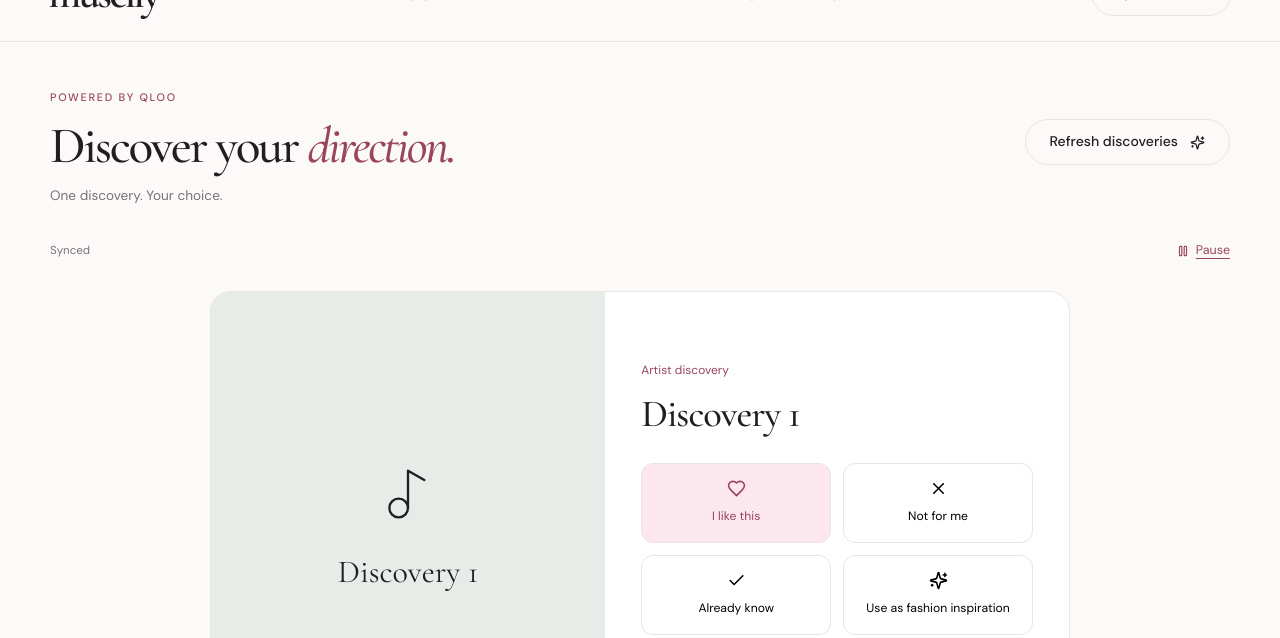
it: waits for acknowledgements before fetching analytics but keeps the deck interactive
Click the button "I like this": coordinates (736, 503) [641, 463, 831, 543]
(page scrolled)
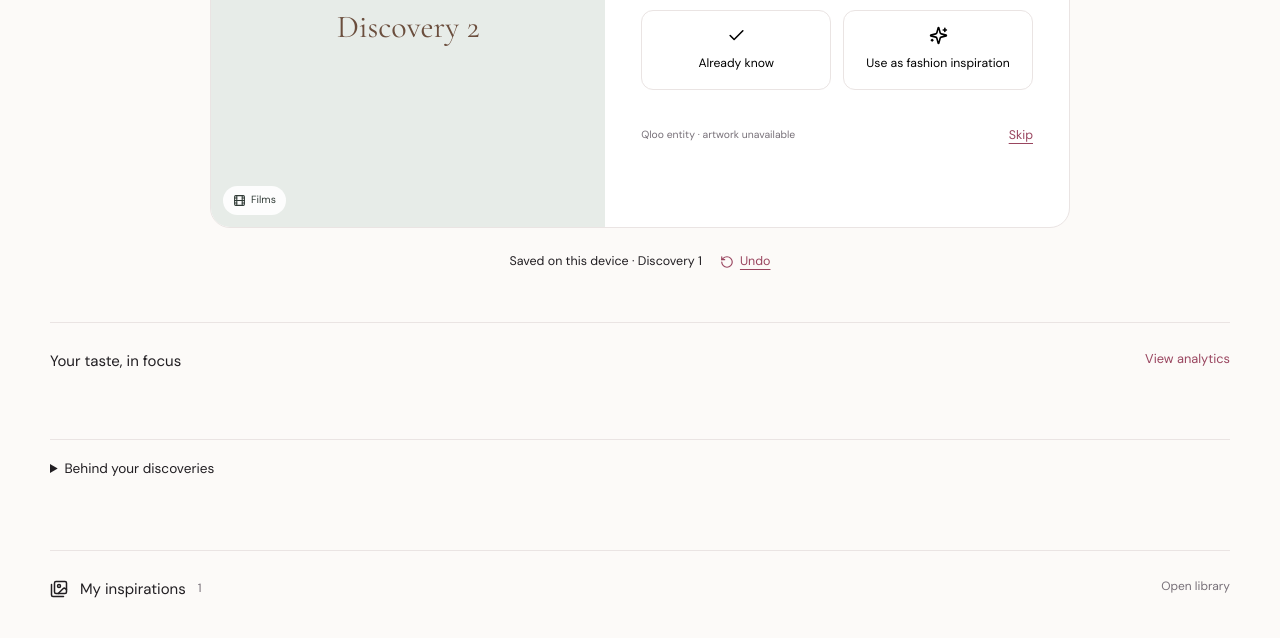
Click the text "View analytics": coordinates (1188, 361) [1145, 349, 1230, 373]
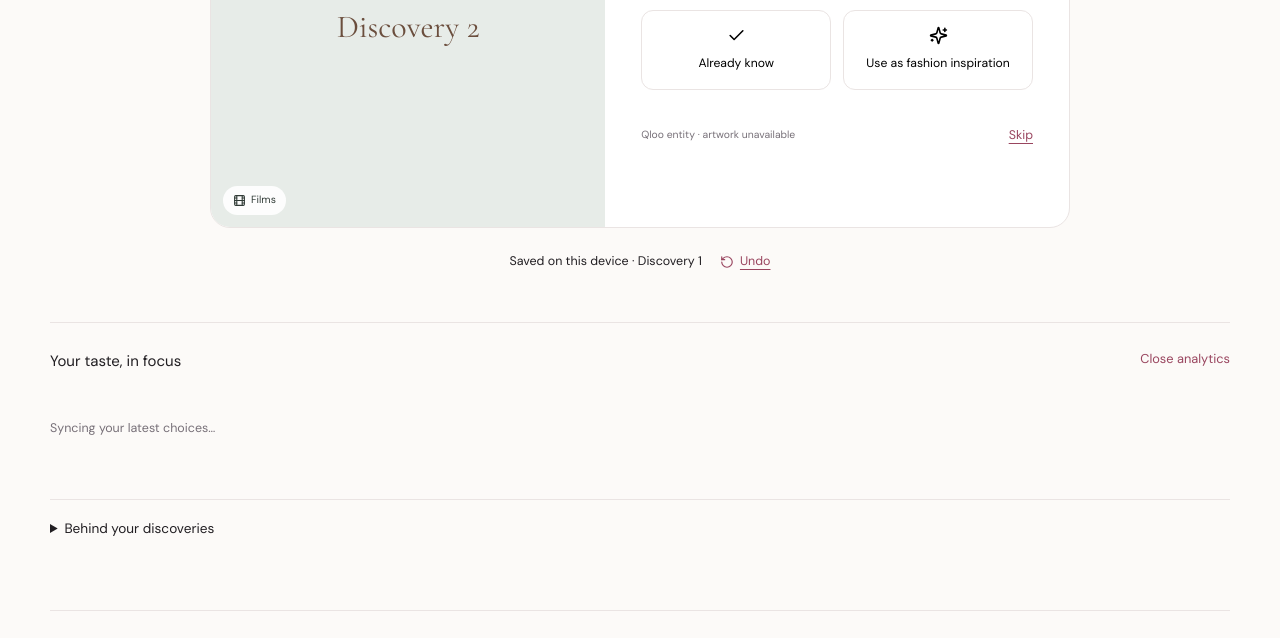
Click the button "Already know": coordinates (736, 50) [641, 10, 831, 90]
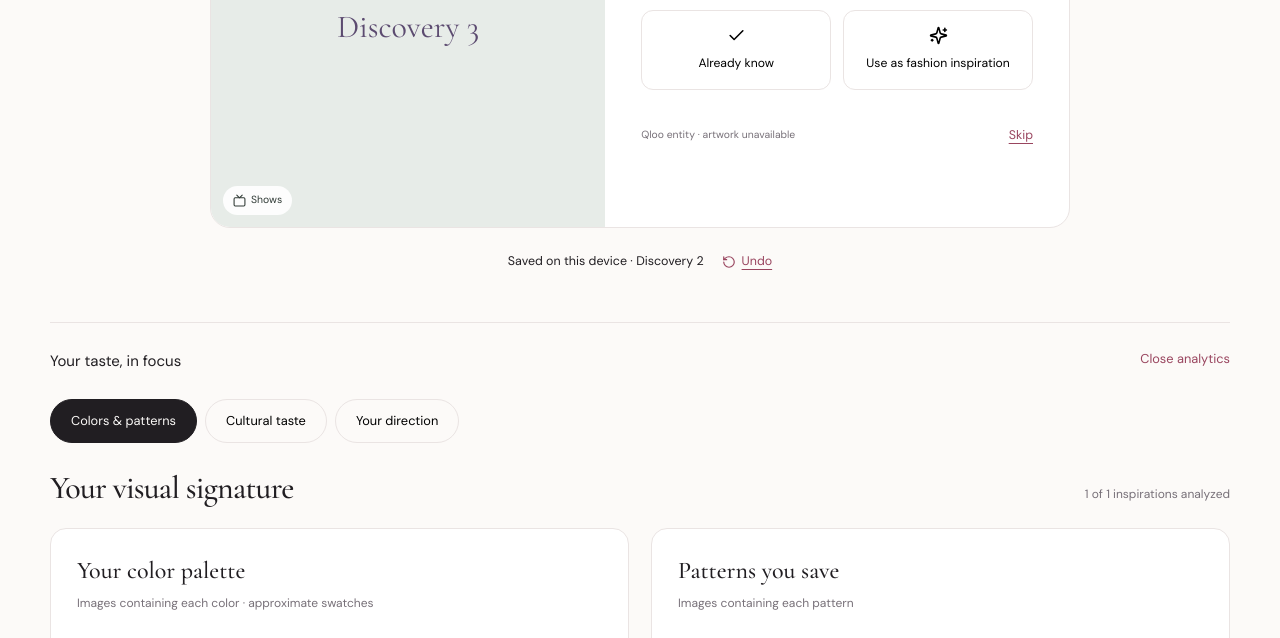
Result: the heading "Your color palette" is shown at [77, 556, 245, 585]
Result: the heading "Patterns you save" is shown at [678, 556, 839, 585]
